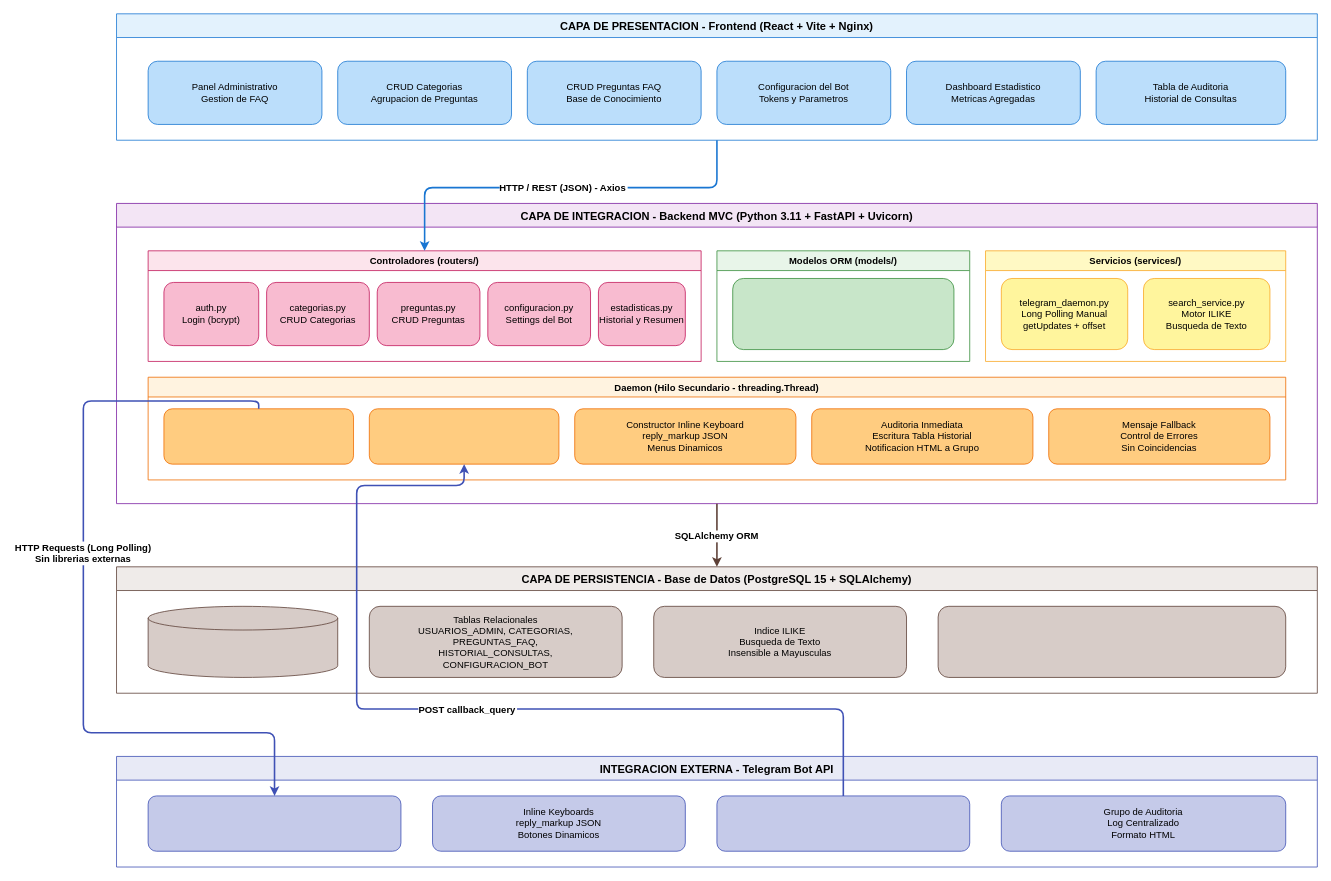
The diagram is 1331 pixels wide and 881 high, and some of its shapes have lost their labels. The centre of each missing label's shape, as x and y in pixels:
"Auditoria Inmutable Timestamp, Usuario, Entrada y Salida" goes at point 1111,641.
"Bucle Principal Long Polling Activo time.sleep (reposo)" goes at point 258,436.
"callback_query Eventos de Pulsacion Interaccion de Usuario" goes at point 843,823.
"Parser de Comandos /preguntas /categorias callback_query" goes at point 464,436.
"REST API Telegram api.telegram.org sendMessage, getUpdates" goes at point 274,823.
"seed_data.py Datos Iniciales (3 Categorias, 20 Preguntas)" goes at point 242,641.
"USUARIOS_ADMIN CATEGORIAS PREGUNTAS_FAQ HISTORIAL_CONSULTAS CONFIGURACION_BOT" goes at point 843,314.
